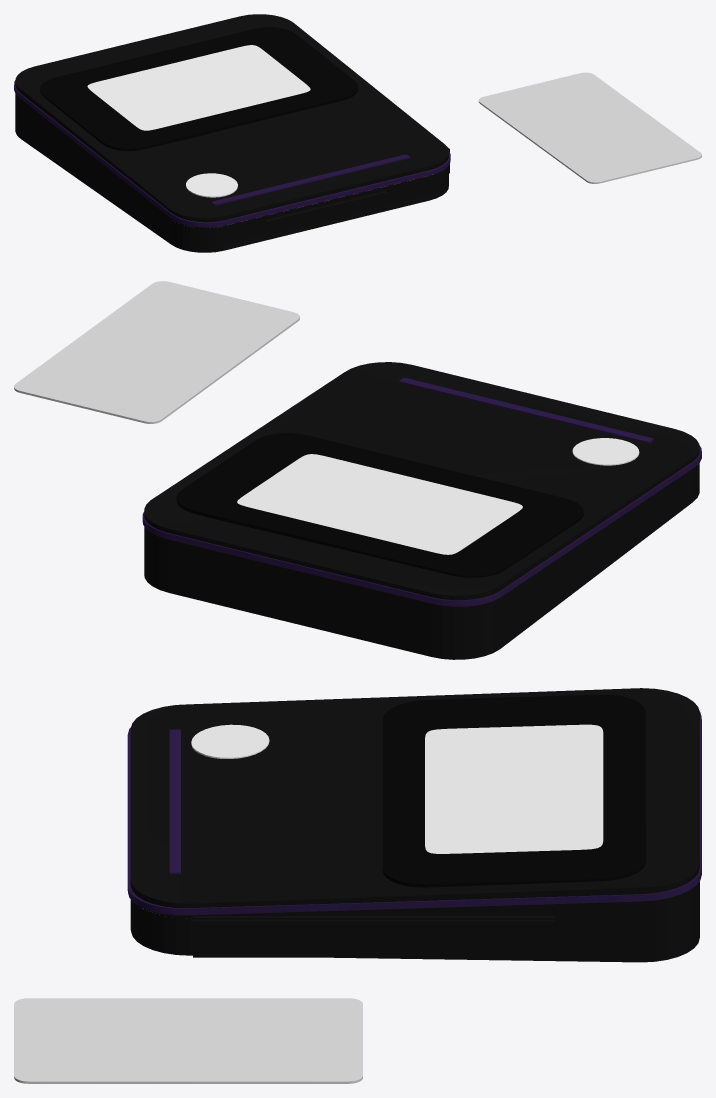
The model's file is cardleader.fbx.
3 renders of one model, top to bottom at view 1: azimuth 30°, elevation 25°; view 2: azimuth 150°, elevation 25°; view 3: azimuth 270°, elevation 25°, orthographic. The views are drawn at different scales.
Visible parts, largest first — view 1: Rectangle001, Rectangle003, Rectangle004, Rectangle010, Rectangle008, Box001, Circle001; view 2: Rectangle001, Rectangle003, Rectangle004, Rectangle010, Rectangle008, Box001, Circle001; view 3: Rectangle001, Rectangle003, Rectangle004, Rectangle010, Rectangle009, Rectangle008, Circle001, Box001.
Boxes of the visible parts, left/top/right/bottom form: Rectangle001: left=15, top=14, right=448, bottom=252; Rectangle003: left=478, top=72, right=701, bottom=183; Rectangle004: left=40, top=27, right=357, bottom=151; Rectangle010: left=87, top=45, right=310, bottom=130; Rectangle008: left=14, top=80, right=450, bottom=227; Box001: left=211, top=154, right=410, bottom=205; Circle001: left=186, top=173, right=237, bottom=197; Rectangle001: left=144, top=362, right=699, bottom=659; Rectangle003: left=14, top=281, right=299, bottom=423; Rectangle004: left=176, top=433, right=583, bottom=577; Rectangle010: left=237, top=454, right=522, bottom=554; Rectangle008: left=142, top=445, right=701, bottom=606; Box001: left=399, top=377, right=653, bottom=443; Circle001: left=572, top=438, right=639, bottom=465; Rectangle001: left=130, top=688, right=699, bottom=962; Rectangle003: left=14, top=998, right=362, bottom=1083; Rectangle004: left=382, top=694, right=645, bottom=887; Rectangle010: left=425, top=724, right=603, bottom=853; Rectangle009: left=193, top=916, right=554, bottom=957; Rectangle008: left=127, top=711, right=701, bottom=915; Circle001: left=191, top=724, right=269, bottom=758; Box001: left=169, top=729, right=180, bottom=874.
Bounding box in the file's own units: 113 × 11.66 × 94.24.
